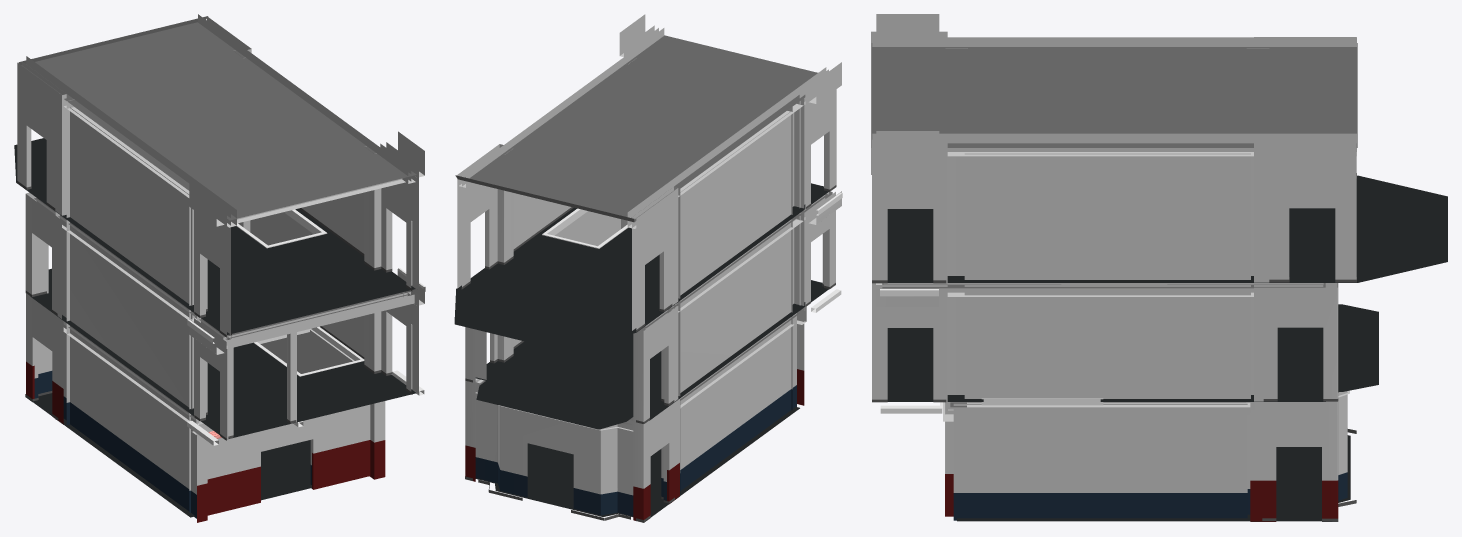
File: SM_H_Building_Tide_Jail_A_01_ATLAS.fbx
3 views of the same model, side by side, from view 1: azimuth 30°, elevation 25°; view 2: azimuth 150°, elevation 25°; view 3: azimuth 270°, elevation 25° (orthographic). The views are drawn at different scales.
Visible parts, largest first — view 1: SM_H_Building_Tide_Jail_A_01_ATLAS; view 2: SM_H_Building_Tide_Jail_A_01_ATLAS; view 3: SM_H_Building_Tide_Jail_A_01_ATLAS.
Boxes of the visible parts, x1,y1,x2,y2 form: SM_H_Building_Tide_Jail_A_01_ATLAS: (14, 14, 425, 522); SM_H_Building_Tide_Jail_A_01_ATLAS: (454, 14, 842, 522); SM_H_Building_Tide_Jail_A_01_ATLAS: (871, 14, 1447, 521).
Bounding box in the file's own units: 1139 × 2325 × 1767.
